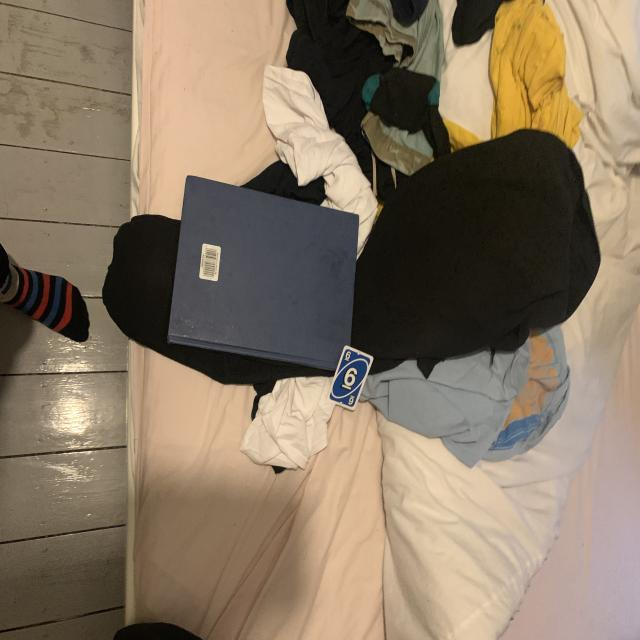lblue-6: (343, 350, 353, 363)
